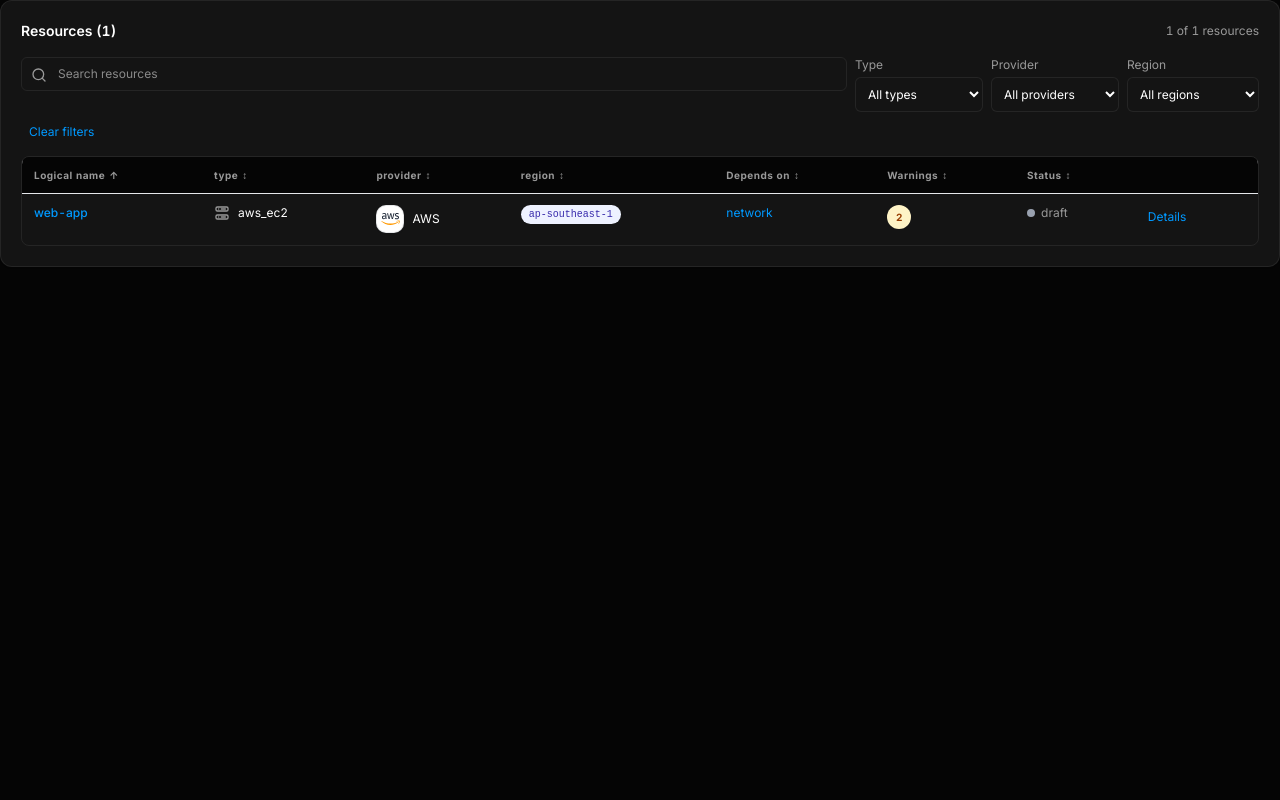
Test case: ResourceTableComponent › redacts named credential entries and explicitly sensitive values
The width and height of the screenshot is (1280, 800).
Click the button with aria-label "Show specification for web-app": click(1167, 217) [1140,205,1194,229]
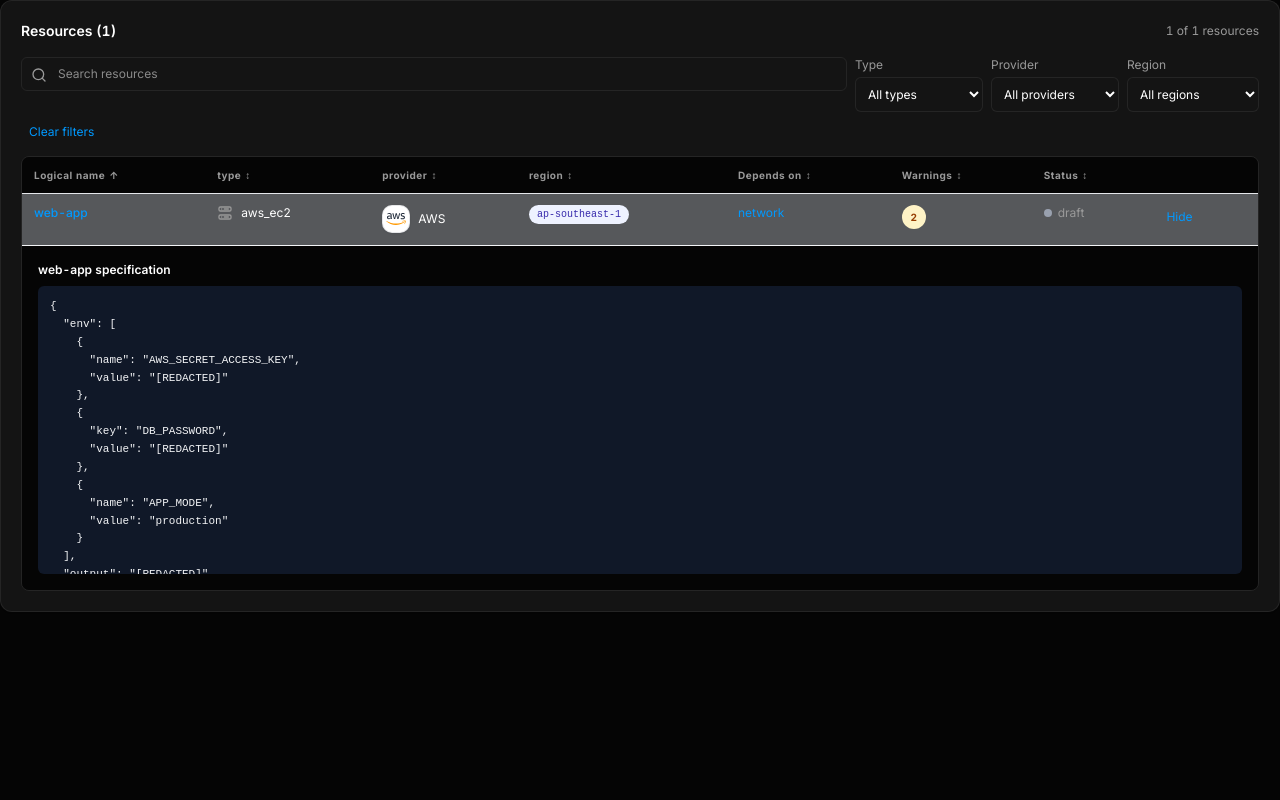
Expected: the text with test id "resource-spec-app-1" does not show "hidden-cloud-value", [38,286,1242,574]
Expected: the text with test id "resource-spec-app-1" shows "production", [50,300,301,591]
